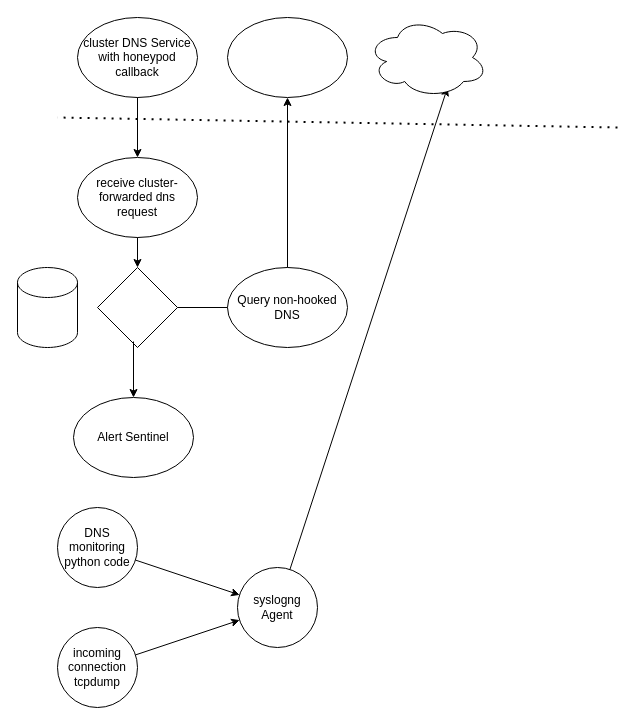
The diagram is 637 pixels wide and 725 high, and some of its shapes have lost their labels. The shapes that lost their labels are listed below. From the top down, each one's centre as x and y in pixels, then its label:
At (x=287, y=57): "DNS Server (no hook)".
At (x=427, y=57): "syslog server/sentinel".
At (x=47, y=307): "whitelist".
At (x=137, y=307): "Is in whitelist? Y N".
